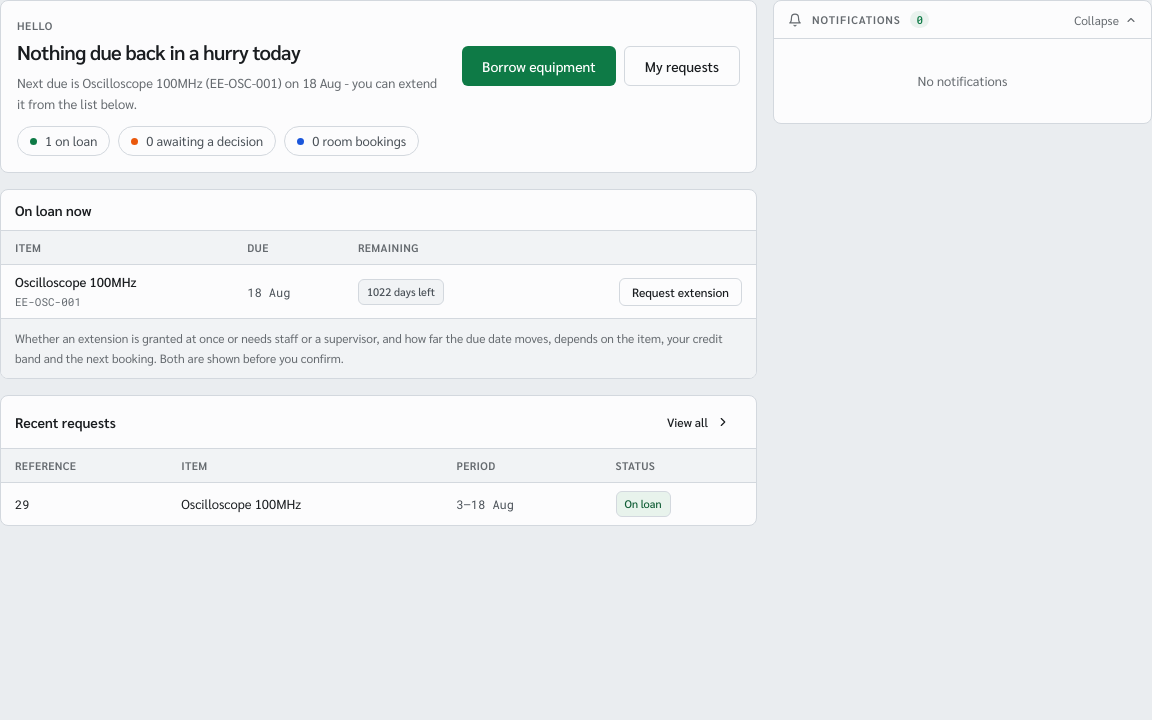
borrower home: extensions go to the server › sends a supervisor-routed request with the server's due date, then withdraws it on the server
Click the button "Request extension" at (680, 292), box [619,278,742,306]
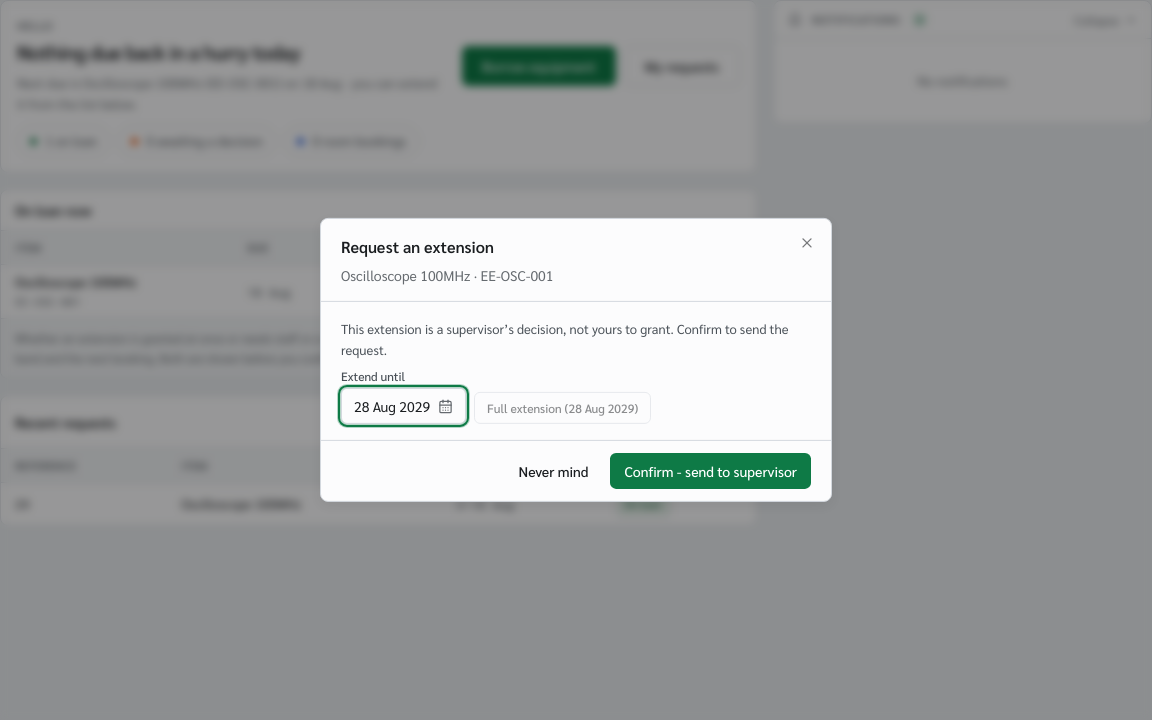
Click the button "Confirm - send to supervisor" at (711, 471), box [610,453,811,489]
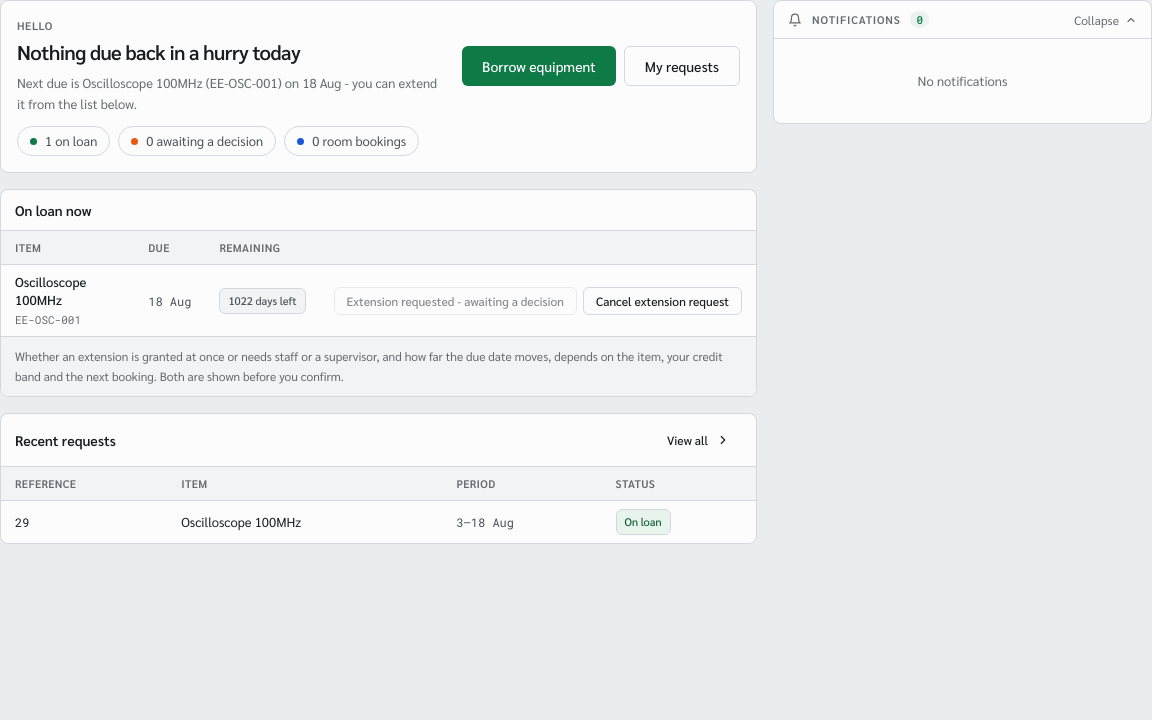
Expected: the button "Extension requested - awaiting a decision" is disabled, [334,287,577,315]
Click the button "Cancel extension request" at (662, 301), box [583,287,742,315]
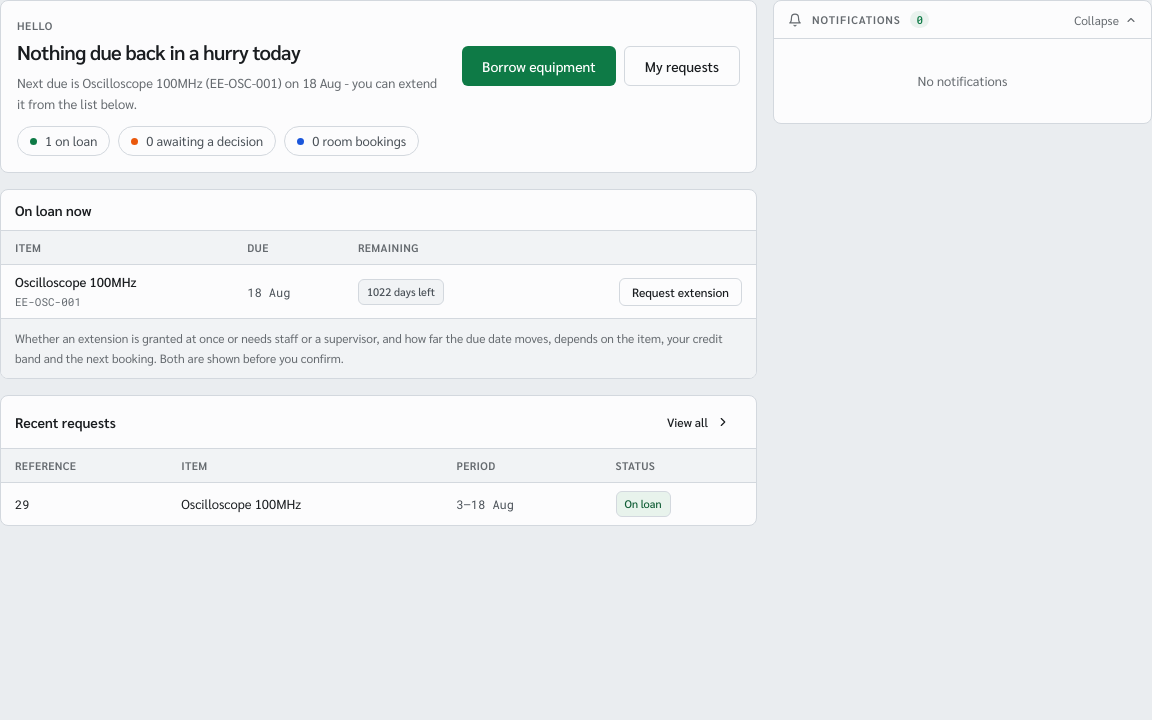
Expected: the button "Cancel extension request" is gone
